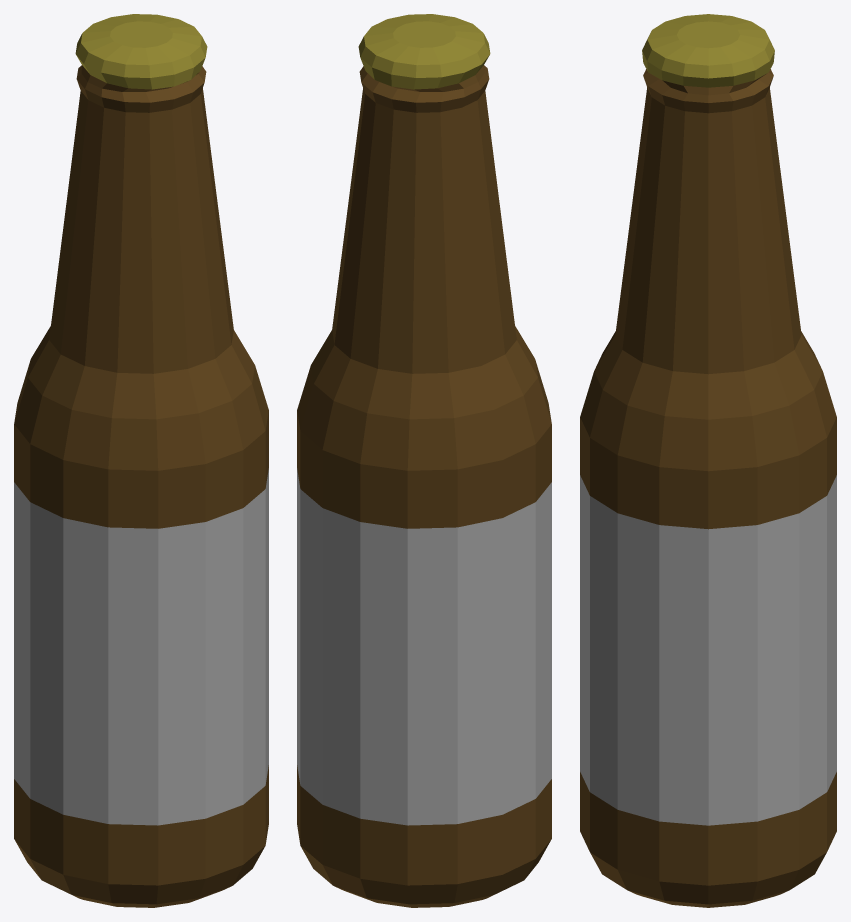
File: beerbottle.glb
The picture shows the model from 3 angles, left to right: view 1: azimuth 30°, elevation 25°; view 2: azimuth 150°, elevation 25°; view 3: azimuth 270°, elevation 25°; orthographic projection.
Visible parts, largest first — view 1: Cylinder.001; view 2: Cylinder.001; view 3: Cylinder.001.
Boxes of the visible parts, x1,y1,x2,y2 form: Cylinder.001: (14,14,268,907); Cylinder.001: (297,14,551,907); Cylinder.001: (580,14,836,907).
Size of the model in its own units: 1.24 by 4.46 by 1.24.
